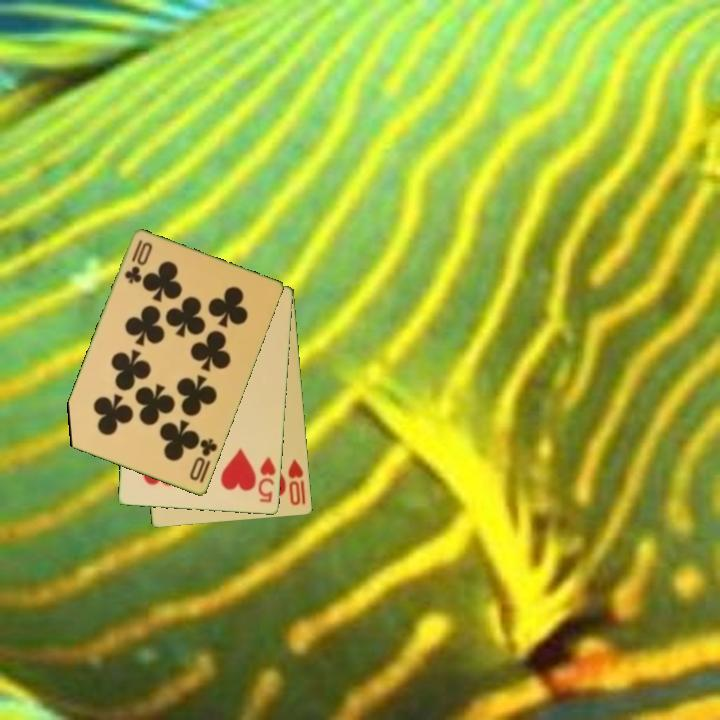10c: (186, 435, 221, 484), (121, 236, 146, 287)
10h: (285, 456, 309, 508)
5h: (255, 453, 279, 506)
